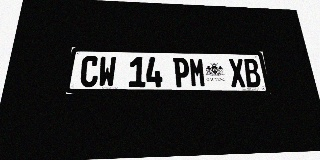1: (129, 57, 146, 87)
4: (146, 57, 162, 87)
B: (243, 59, 262, 87)
C: (79, 56, 99, 87)
M: (189, 58, 206, 87)
P: (173, 57, 190, 87)
W: (98, 56, 116, 87)
X: (228, 58, 247, 87)
